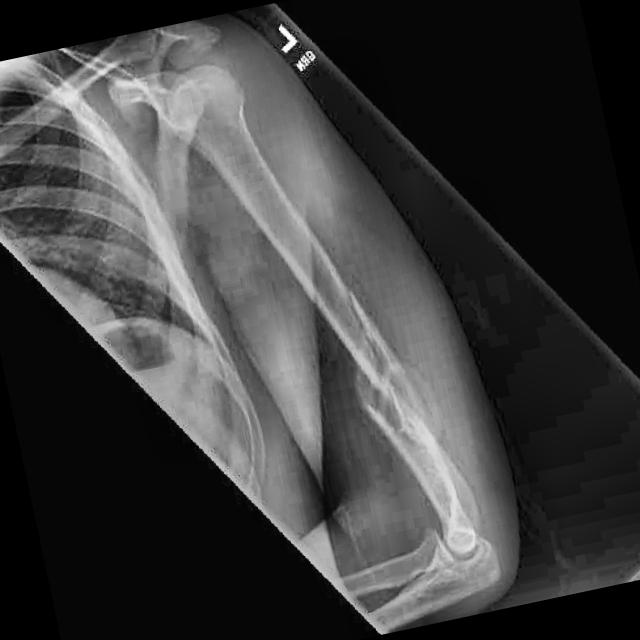humerus: (309, 254, 482, 501)
